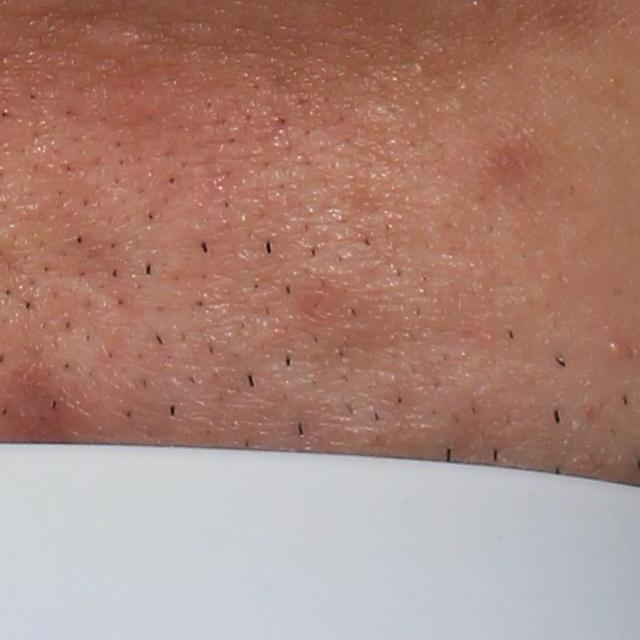hypertrophic_scar: (70, 22, 143, 61)
